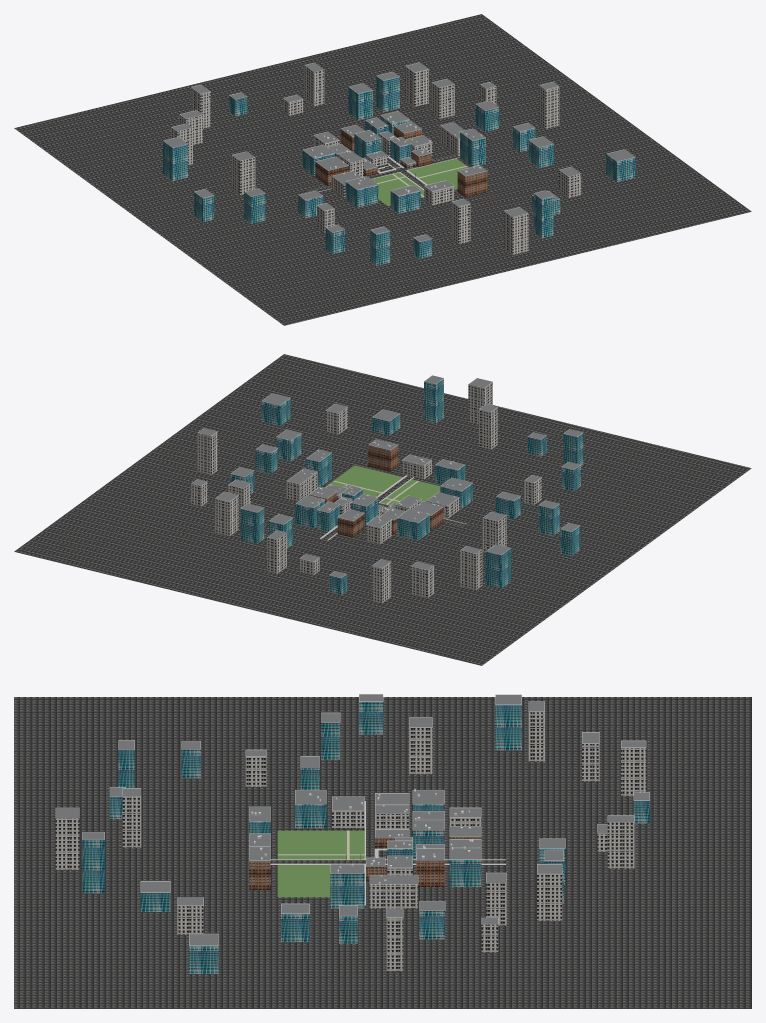
Rendered from street.glb.
3 views of the same model, one above another, from view 1: azimuth 30°, elevation 25°; view 2: azimuth 150°, elevation 25°; view 3: azimuth 270°, elevation 25° (orthographic). The views are drawn at different scales.
Parts seen in each view (by area): view 1: asphalt, facade-glass, facade-concrete, roofing, plant, facade-brick, lawn; view 2: asphalt, facade-glass, facade-concrete, roofing, plant, lawn, facade-brick; view 3: asphalt, facade-concrete, facade-glass, roofing, plant, lawn, facade-brick.
Boxes of the visible parts, x1,y1,x2,y2 form: asphalt: (14,14,751,325); facade-glass: (163,76,635,265); facade-concrete: (171,65,581,254); roofing: (164,63,634,241); plant: (163,62,635,241); facade-brick: (315,126,487,197); lawn: (371,158,487,206); asphalt: (14,354,751,665); facade-glass: (230,378,583,594); facade-concrete: (191,382,541,603); roofing: (192,375,582,577); plant: (191,375,583,578); lawn: (324,465,440,504); facade-brick: (309,445,443,537); asphalt: (14,697,751,1008); facade-concrete: (55,712,646,971); facade-glass: (82,702,649,973); roofing: (56,694,649,945); plant: (55,694,649,946); lawn: (277,830,364,897); facade-brick: (249,831,481,889).
Size of the model in its own units: 840 by 67.75 by 840.
Materials: 17 (5 with a texture image).
